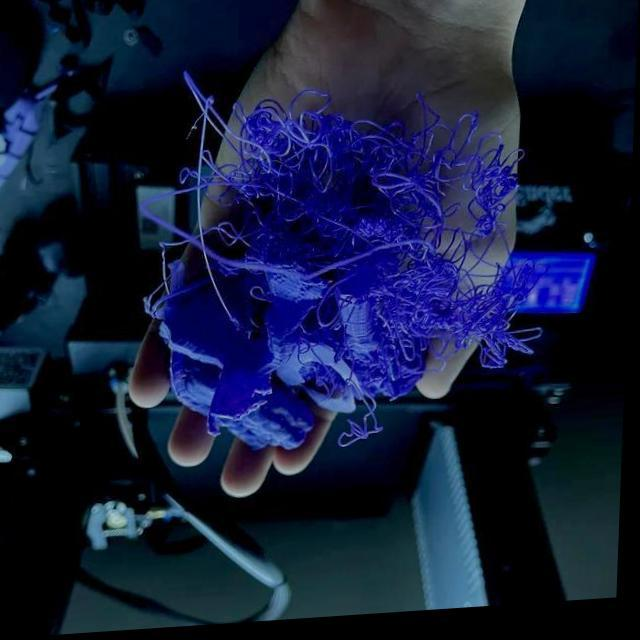spaghetti: (234, 97, 363, 198), (261, 190, 367, 249), (400, 282, 462, 375), (469, 287, 530, 378), (470, 157, 528, 240), (379, 155, 449, 222), (370, 108, 444, 166), (357, 227, 434, 276), (183, 80, 233, 151), (344, 393, 389, 453)
